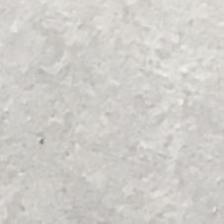Non_Crack: (18, 29, 195, 192)
